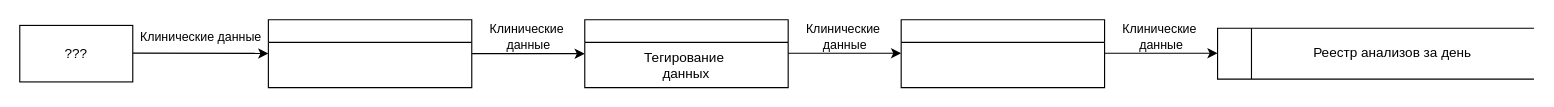
The diagram is 1554 pixels wide and 107 high, and some of its shapes have lost their labels. Each missing label, with the centre of its shape:
Обезличивание данных: pixel 1002 53
Прием анализов от лабораторий: pixel 369 53
